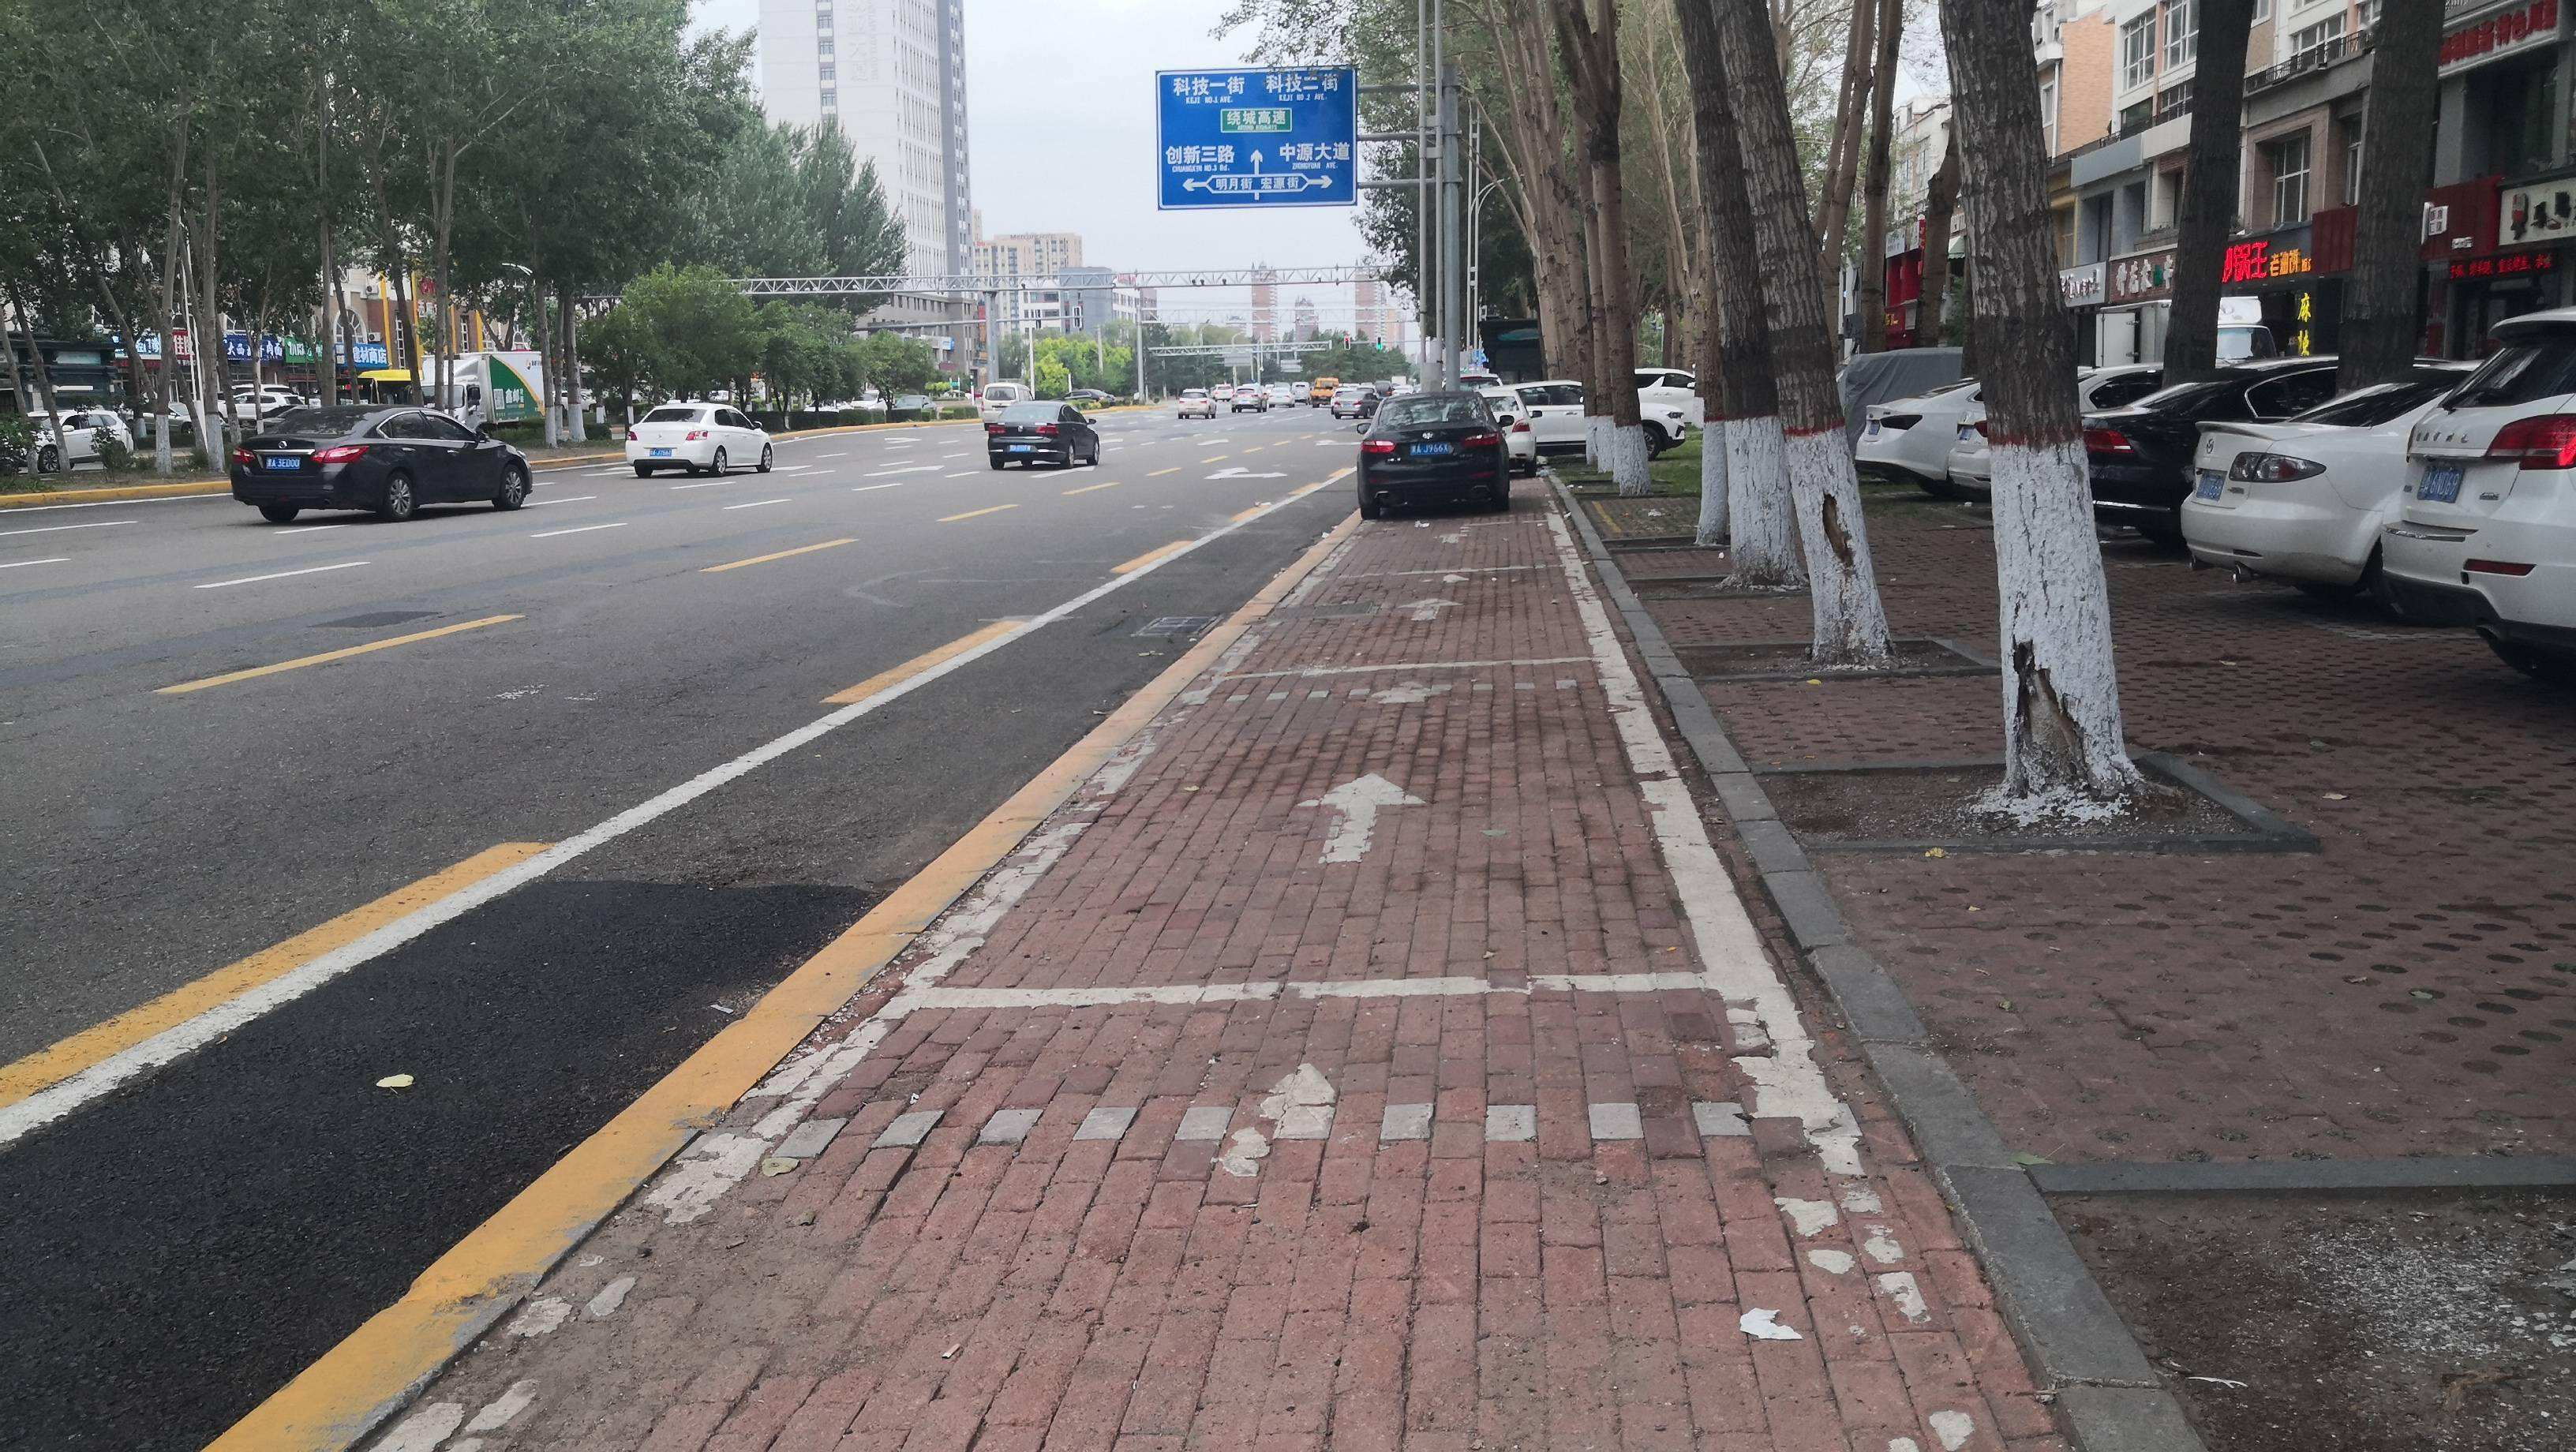slot_nocar: (902, 684, 1782, 1100), (1178, 501, 1624, 704)
